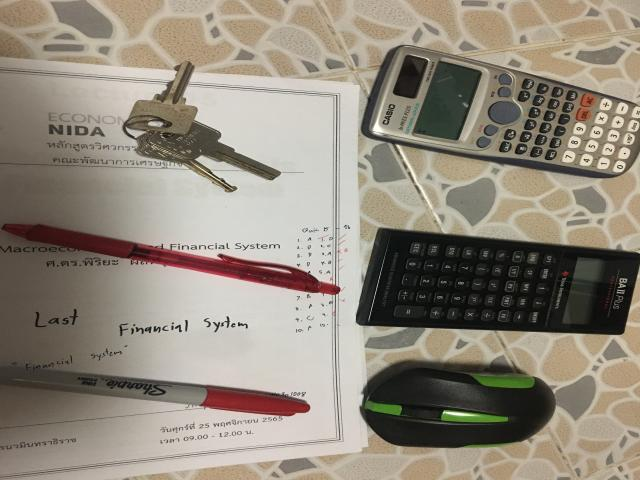Keys: (123, 62, 280, 192)
Mouse: (365, 368, 555, 448)
Pen: (3, 224, 340, 294), (0, 367, 310, 416)
paper: (0, 58, 367, 480)
